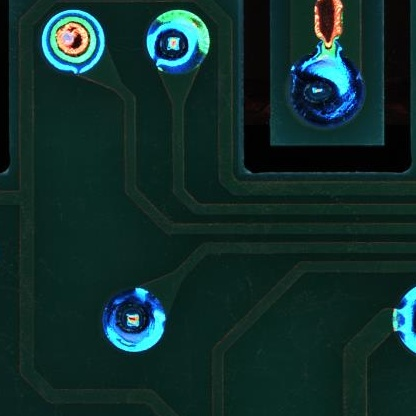spot: (285, 50, 366, 127), (102, 286, 169, 354), (144, 10, 211, 75), (43, 12, 100, 69)
